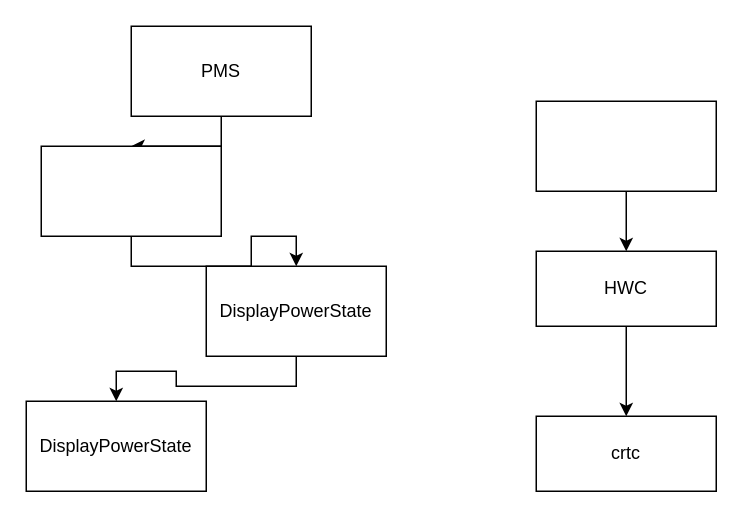
The diagram is 743 pixels wide and 518 high, and some of its shapes have lost their labels. Here are the shapes that lost their labels. From the top down, the centre of each, then its label:
point (625, 145): SurfaceController
point (130, 190): DisplayPowerController
